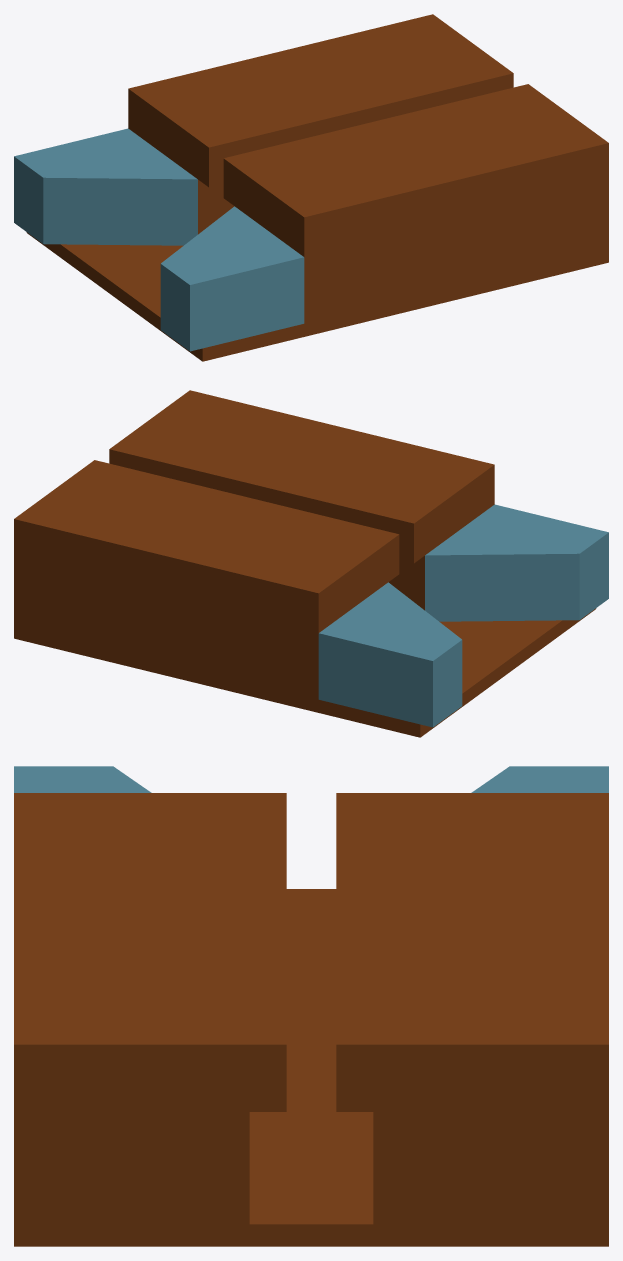
File: crevice.glb
3 renders of one model, top to bottom at view 1: azimuth 30°, elevation 25°; view 2: azimuth 150°, elevation 25°; view 3: azimuth 270°, elevation 25°, orthographic. The views are drawn at different scales.
Parts seen in each view (by area): view 1: block:pbr, slick_guide:pbr, floor:pbr, slick_mouth:pbr, sky_gap:pbr, slick_slot:pbr; view 2: block:pbr, slick_guide:pbr, floor:pbr, slick_mouth:pbr, sky_gap:pbr, slick_slot:pbr; view 3: block:pbr, floor:pbr, slick_guide:pbr.
Boxes of the visible parts, x1,y1,x2,y2 form: block:pbr: (128, 14, 608, 323); slick_guide:pbr: (14, 128, 304, 351); floor:pbr: (26, 232, 608, 361); slick_mouth:pbr: (43, 177, 197, 245); sky_gap:pbr: (209, 73, 513, 187); slick_slot:pbr: (198, 180, 234, 234); block:pbr: (14, 390, 494, 699); slick_guide:pbr: (318, 504, 608, 727); floor:pbr: (14, 608, 596, 737); slick_mouth:pbr: (425, 553, 579, 621); sky_gap:pbr: (109, 449, 413, 563); slick_slot:pbr: (388, 556, 424, 610); block:pbr: (14, 793, 608, 1224); floor:pbr: (14, 889, 608, 1246); slick_guide:pbr: (14, 766, 608, 792).
Size of the model in its own units: 33 by 9 by 24.
